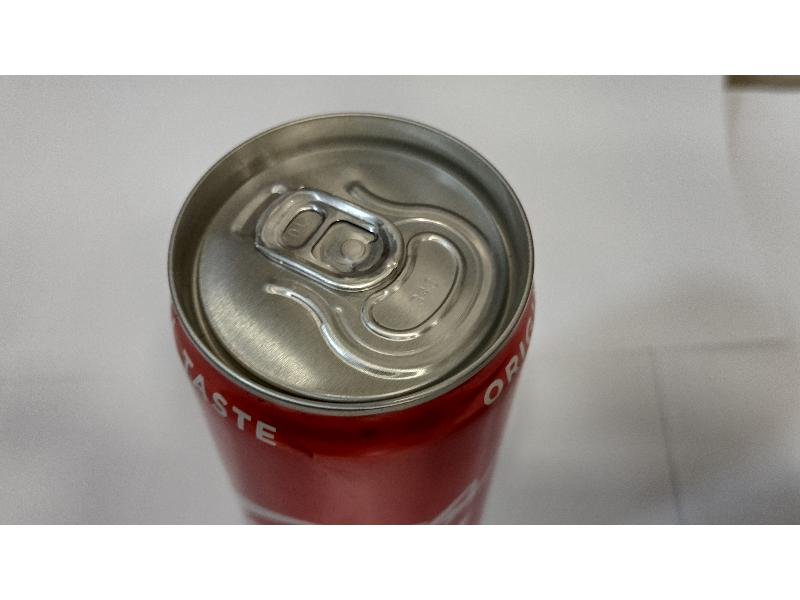can: (166, 108, 538, 522)
